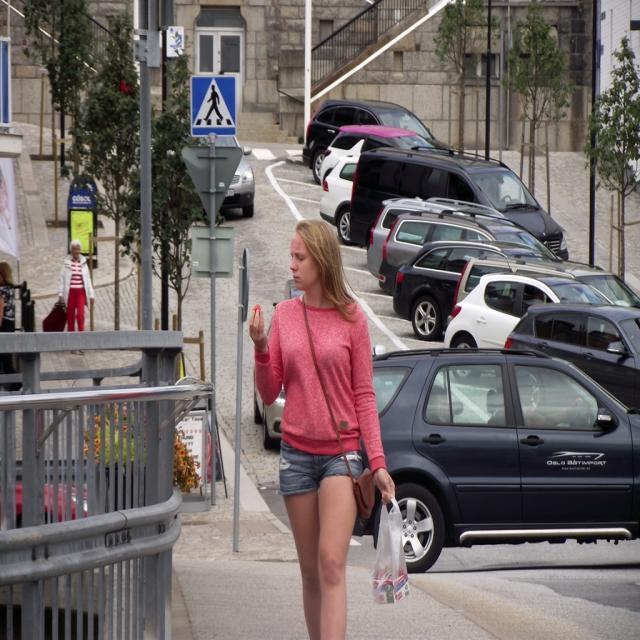car: (374, 338, 628, 577)
